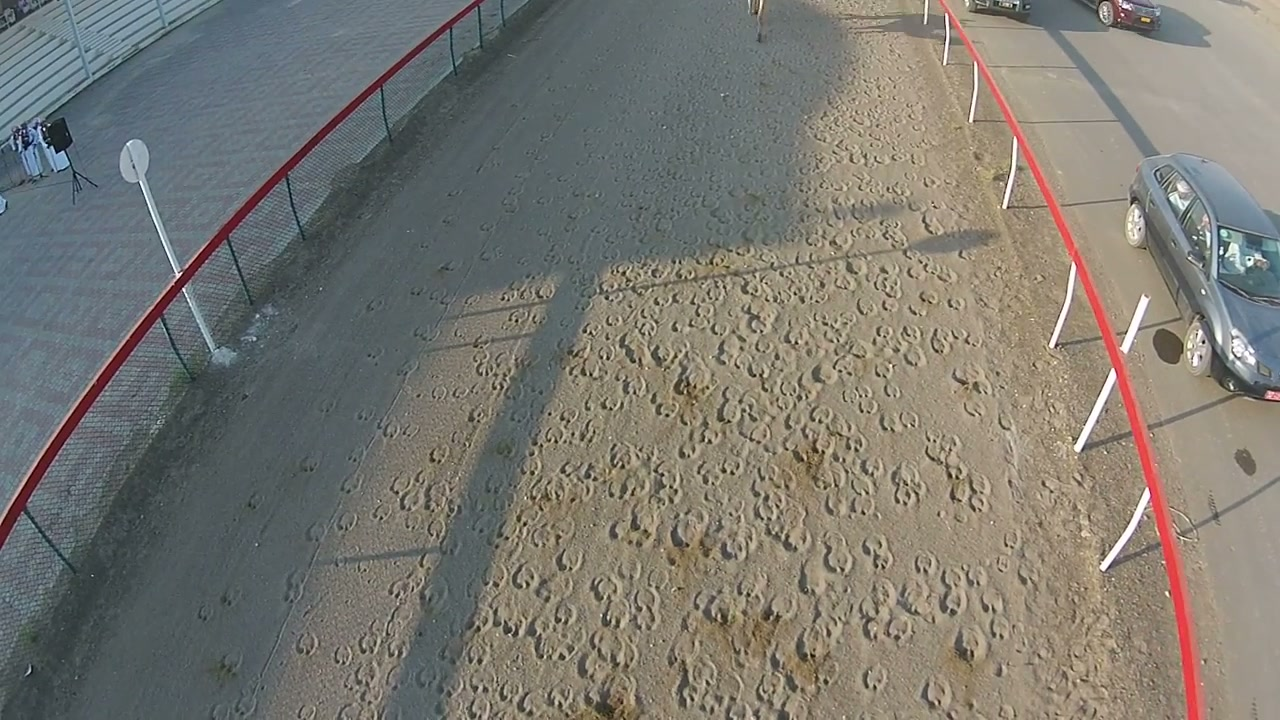animal_foot_print: (256, 0, 1130, 717)
